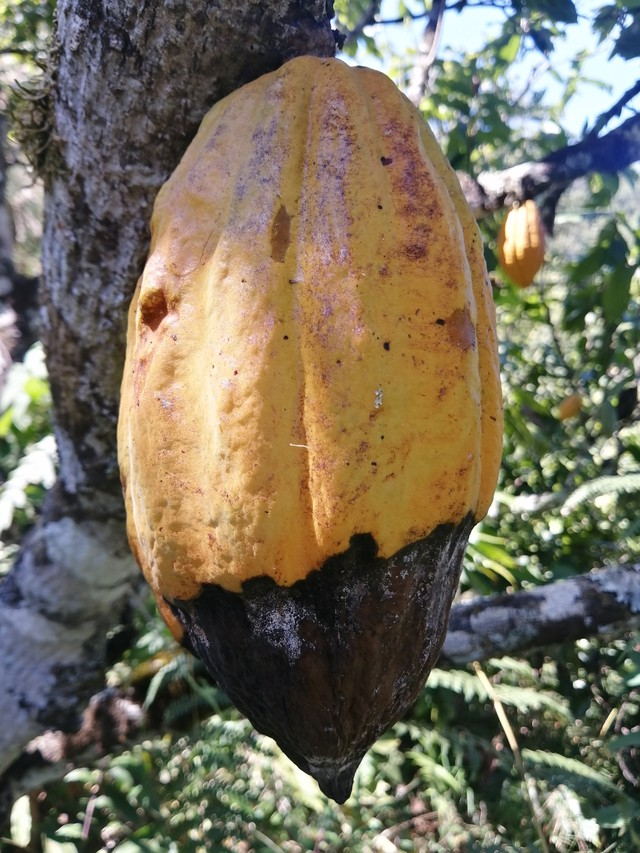moniliophthora roreri: (91, 43, 523, 813)
